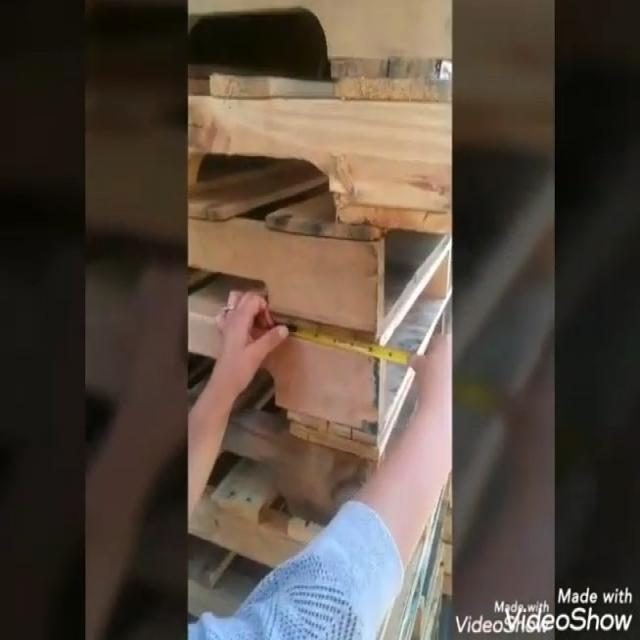Palette: (208, 461, 321, 592)
